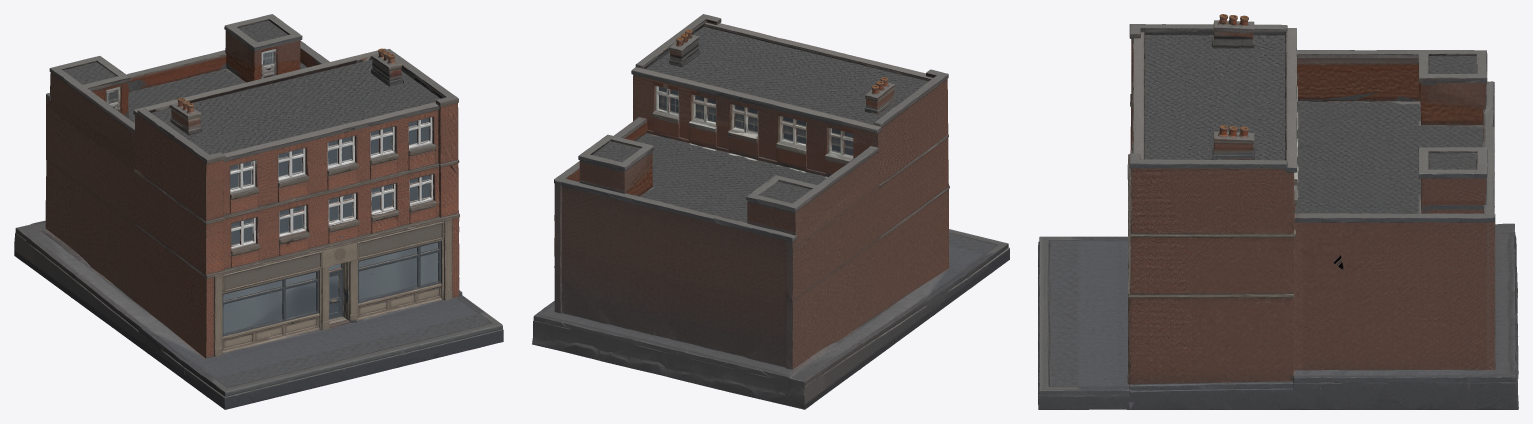
File: building_postwar_midblock.glb
3 renders of one model, left to right at view 1: azimuth 30°, elevation 25°; view 2: azimuth 150°, elevation 25°; view 3: azimuth 270°, elevation 25°, orthographic. The views are drawn at different scales.
Visible parts, largest first — view 1: output_unwrapped; view 2: output_unwrapped; view 3: output_unwrapped.
Part boxes in pixels (box(x1,y1,x2,y2)): output_unwrapped: box(14, 14, 503, 409); output_unwrapped: box(532, 14, 1009, 409); output_unwrapped: box(1038, 14, 1518, 409).
Bounding box in the file's own units: 1.52 × 1.22 × 2.
1 material, 1 textured.
